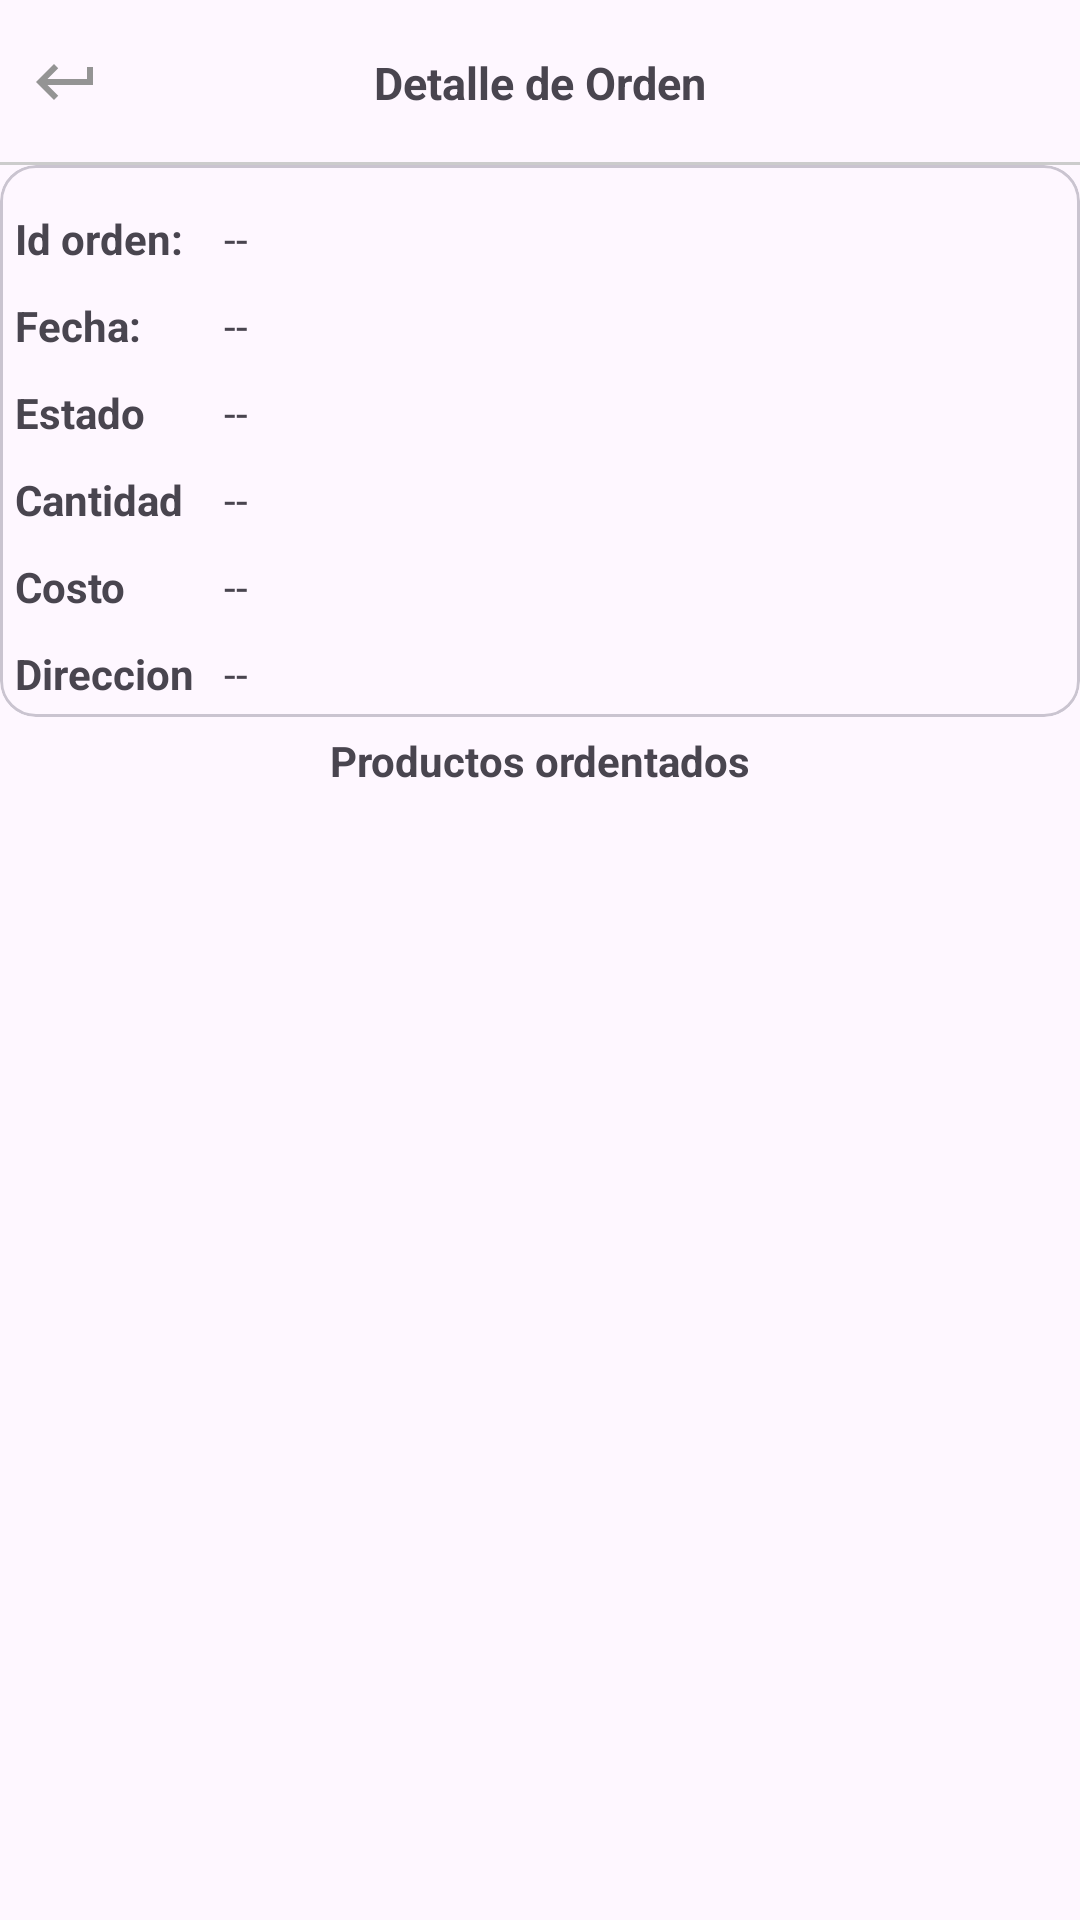

Icon bounding boxes for this 1080px×1920px phone screenshot, format [x1=x1, y1=y1, x2=x2, y2=y2]:
regresar: [x1=36, y1=64, x2=93, y2=100]
